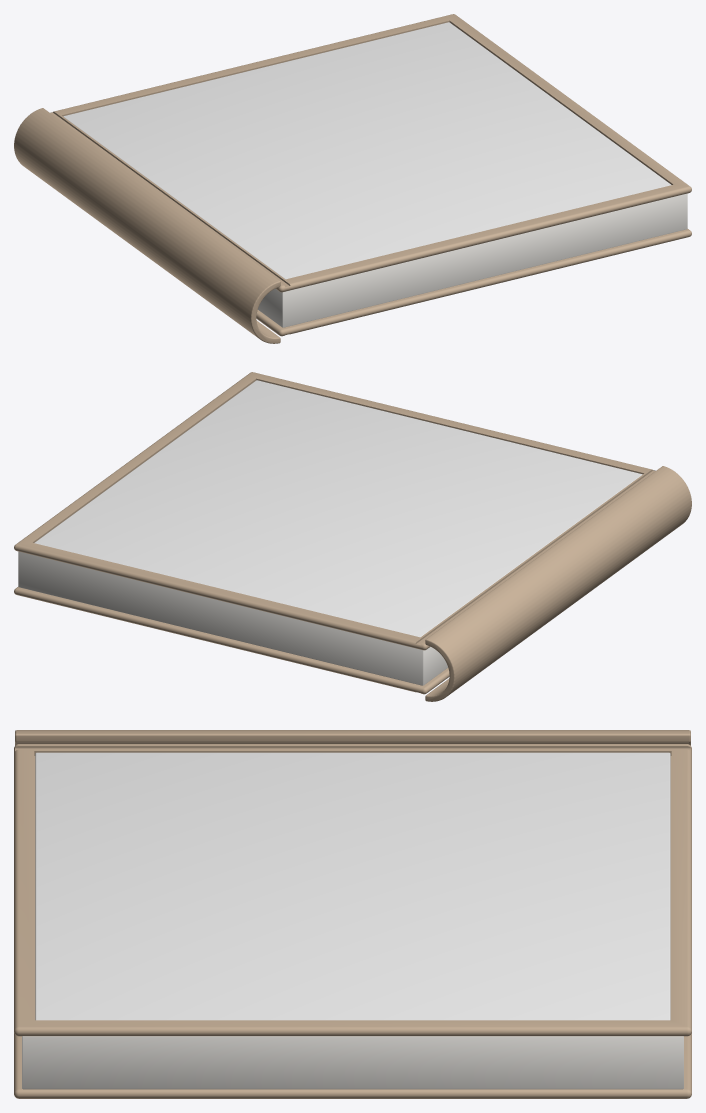
Rendered from photo-full--square.glb.
3 views of the same model, one above another, from view 1: azimuth 30°, elevation 25°; view 2: azimuth 150°, elevation 25°; view 3: azimuth 270°, elevation 25° (orthographic). The views are drawn at different scales.
Visible parts, largest first — view 1: Photo, Spine, Pages, CoverFront, CoverBack; view 2: Photo, Spine, Pages, CoverFront, CoverBack; view 3: Photo, Pages, CoverFront, Spine, CoverBack.
Part boxes in pixels (x1,y1,x2,y2): Photo: [63, 22, 671, 279]; Spine: [14, 108, 280, 343]; Pages: [258, 193, 687, 327]; CoverFront: [50, 14, 691, 292]; CoverBack: [256, 229, 691, 336]; Photo: [34, 380, 642, 637]; Spine: [425, 466, 691, 701]; Pages: [18, 551, 447, 685]; CoverFront: [14, 372, 655, 650]; CoverBack: [14, 587, 449, 694]; Photo: [35, 752, 670, 1020]; Pages: [22, 1036, 683, 1089]; CoverFront: [14, 744, 691, 1036]; Spine: [15, 730, 690, 745]; CoverBack: [14, 1033, 691, 1098].
Bounding box in the file's own units: 0.3208 × 0.043 × 0.3.
